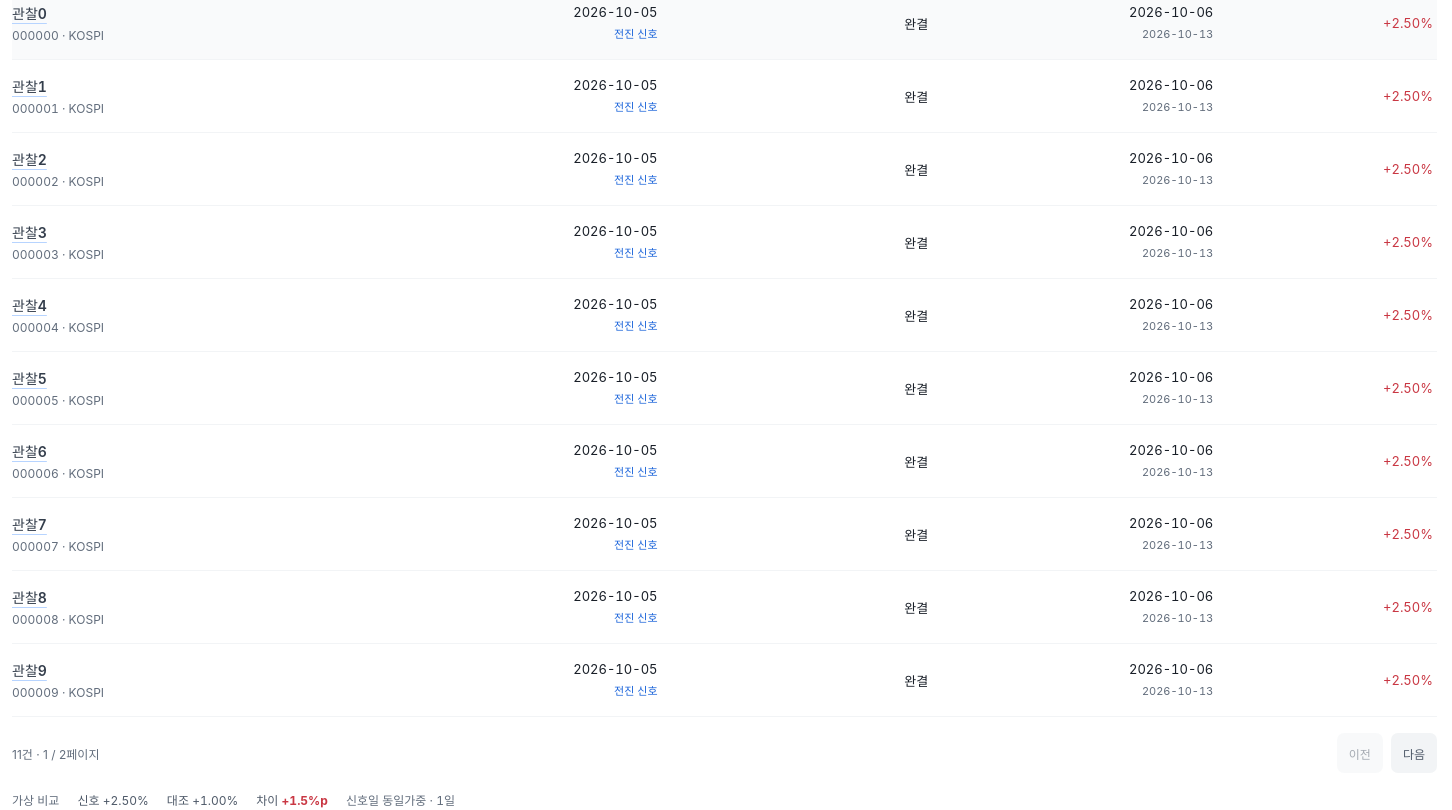
forward observation display › paginates recent signals without losing the selected stock action
The image size is (1452, 810).
(page scrolled)
Click the button "다음" at (1414, 753), box [1391,733,1437,773]
(page scrolled)
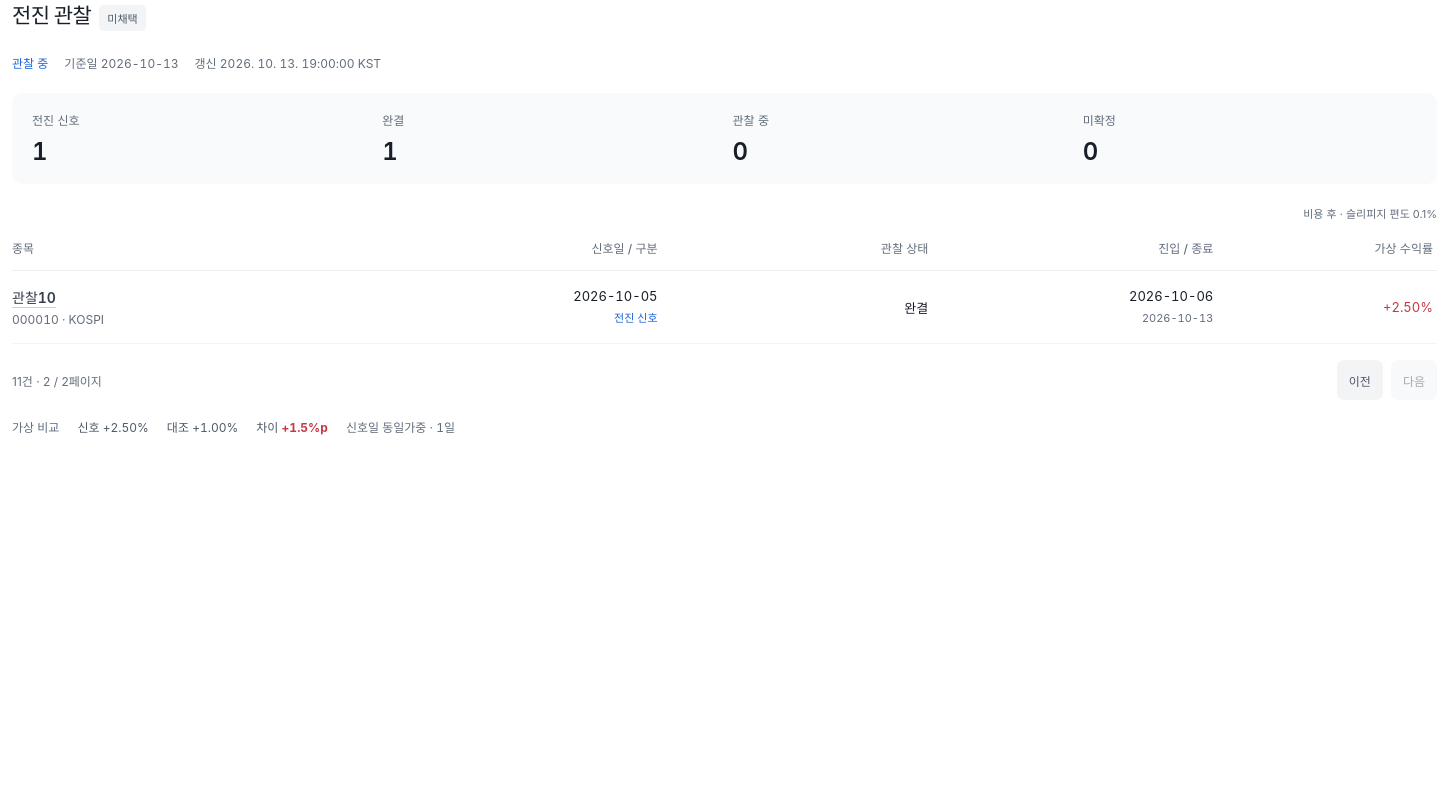
Check: the number of buttons named "일봉 차트 보기" is 1, box [12,287,56,307]
